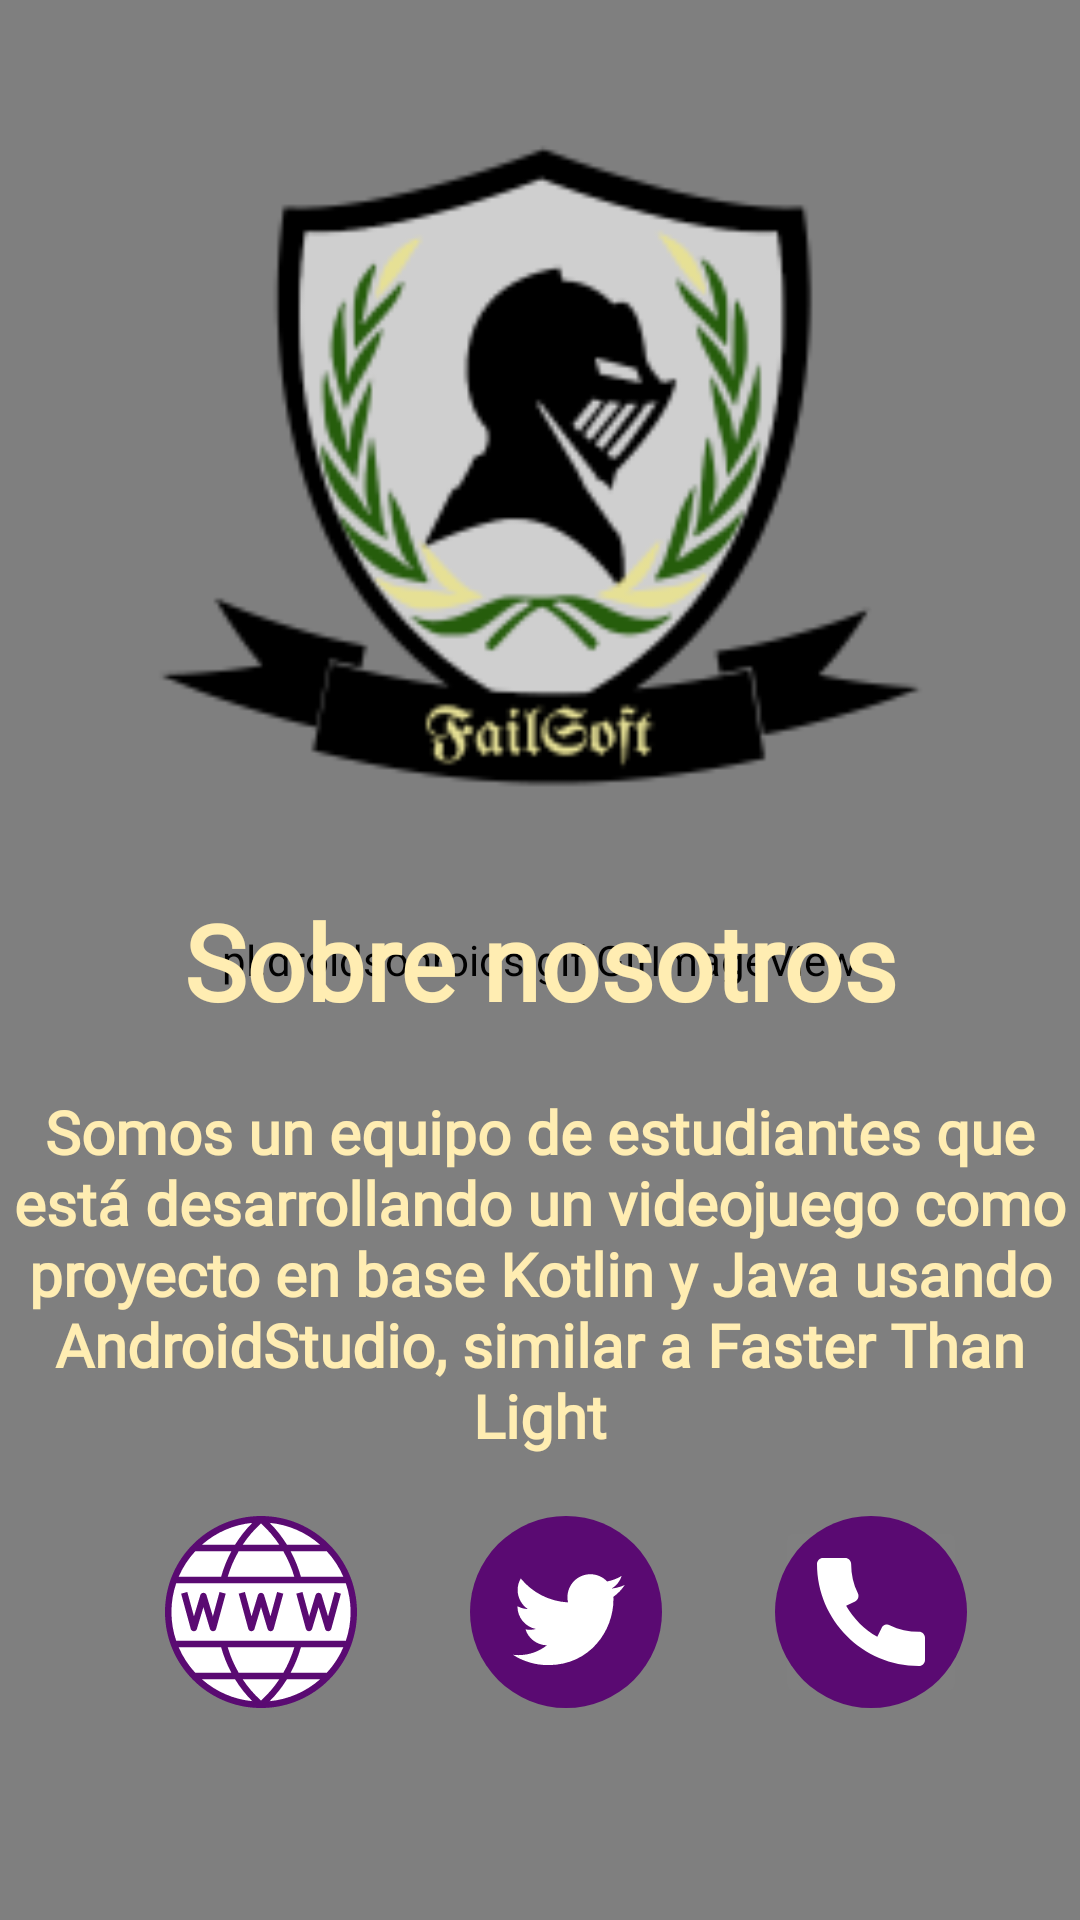

Icon bounding boxes for this 1080w x 1920h phone screenshot, format [x1, y1, x2, y2]:
telephone: [775, 1516, 967, 1708]
worldwide: [165, 1516, 357, 1708]
